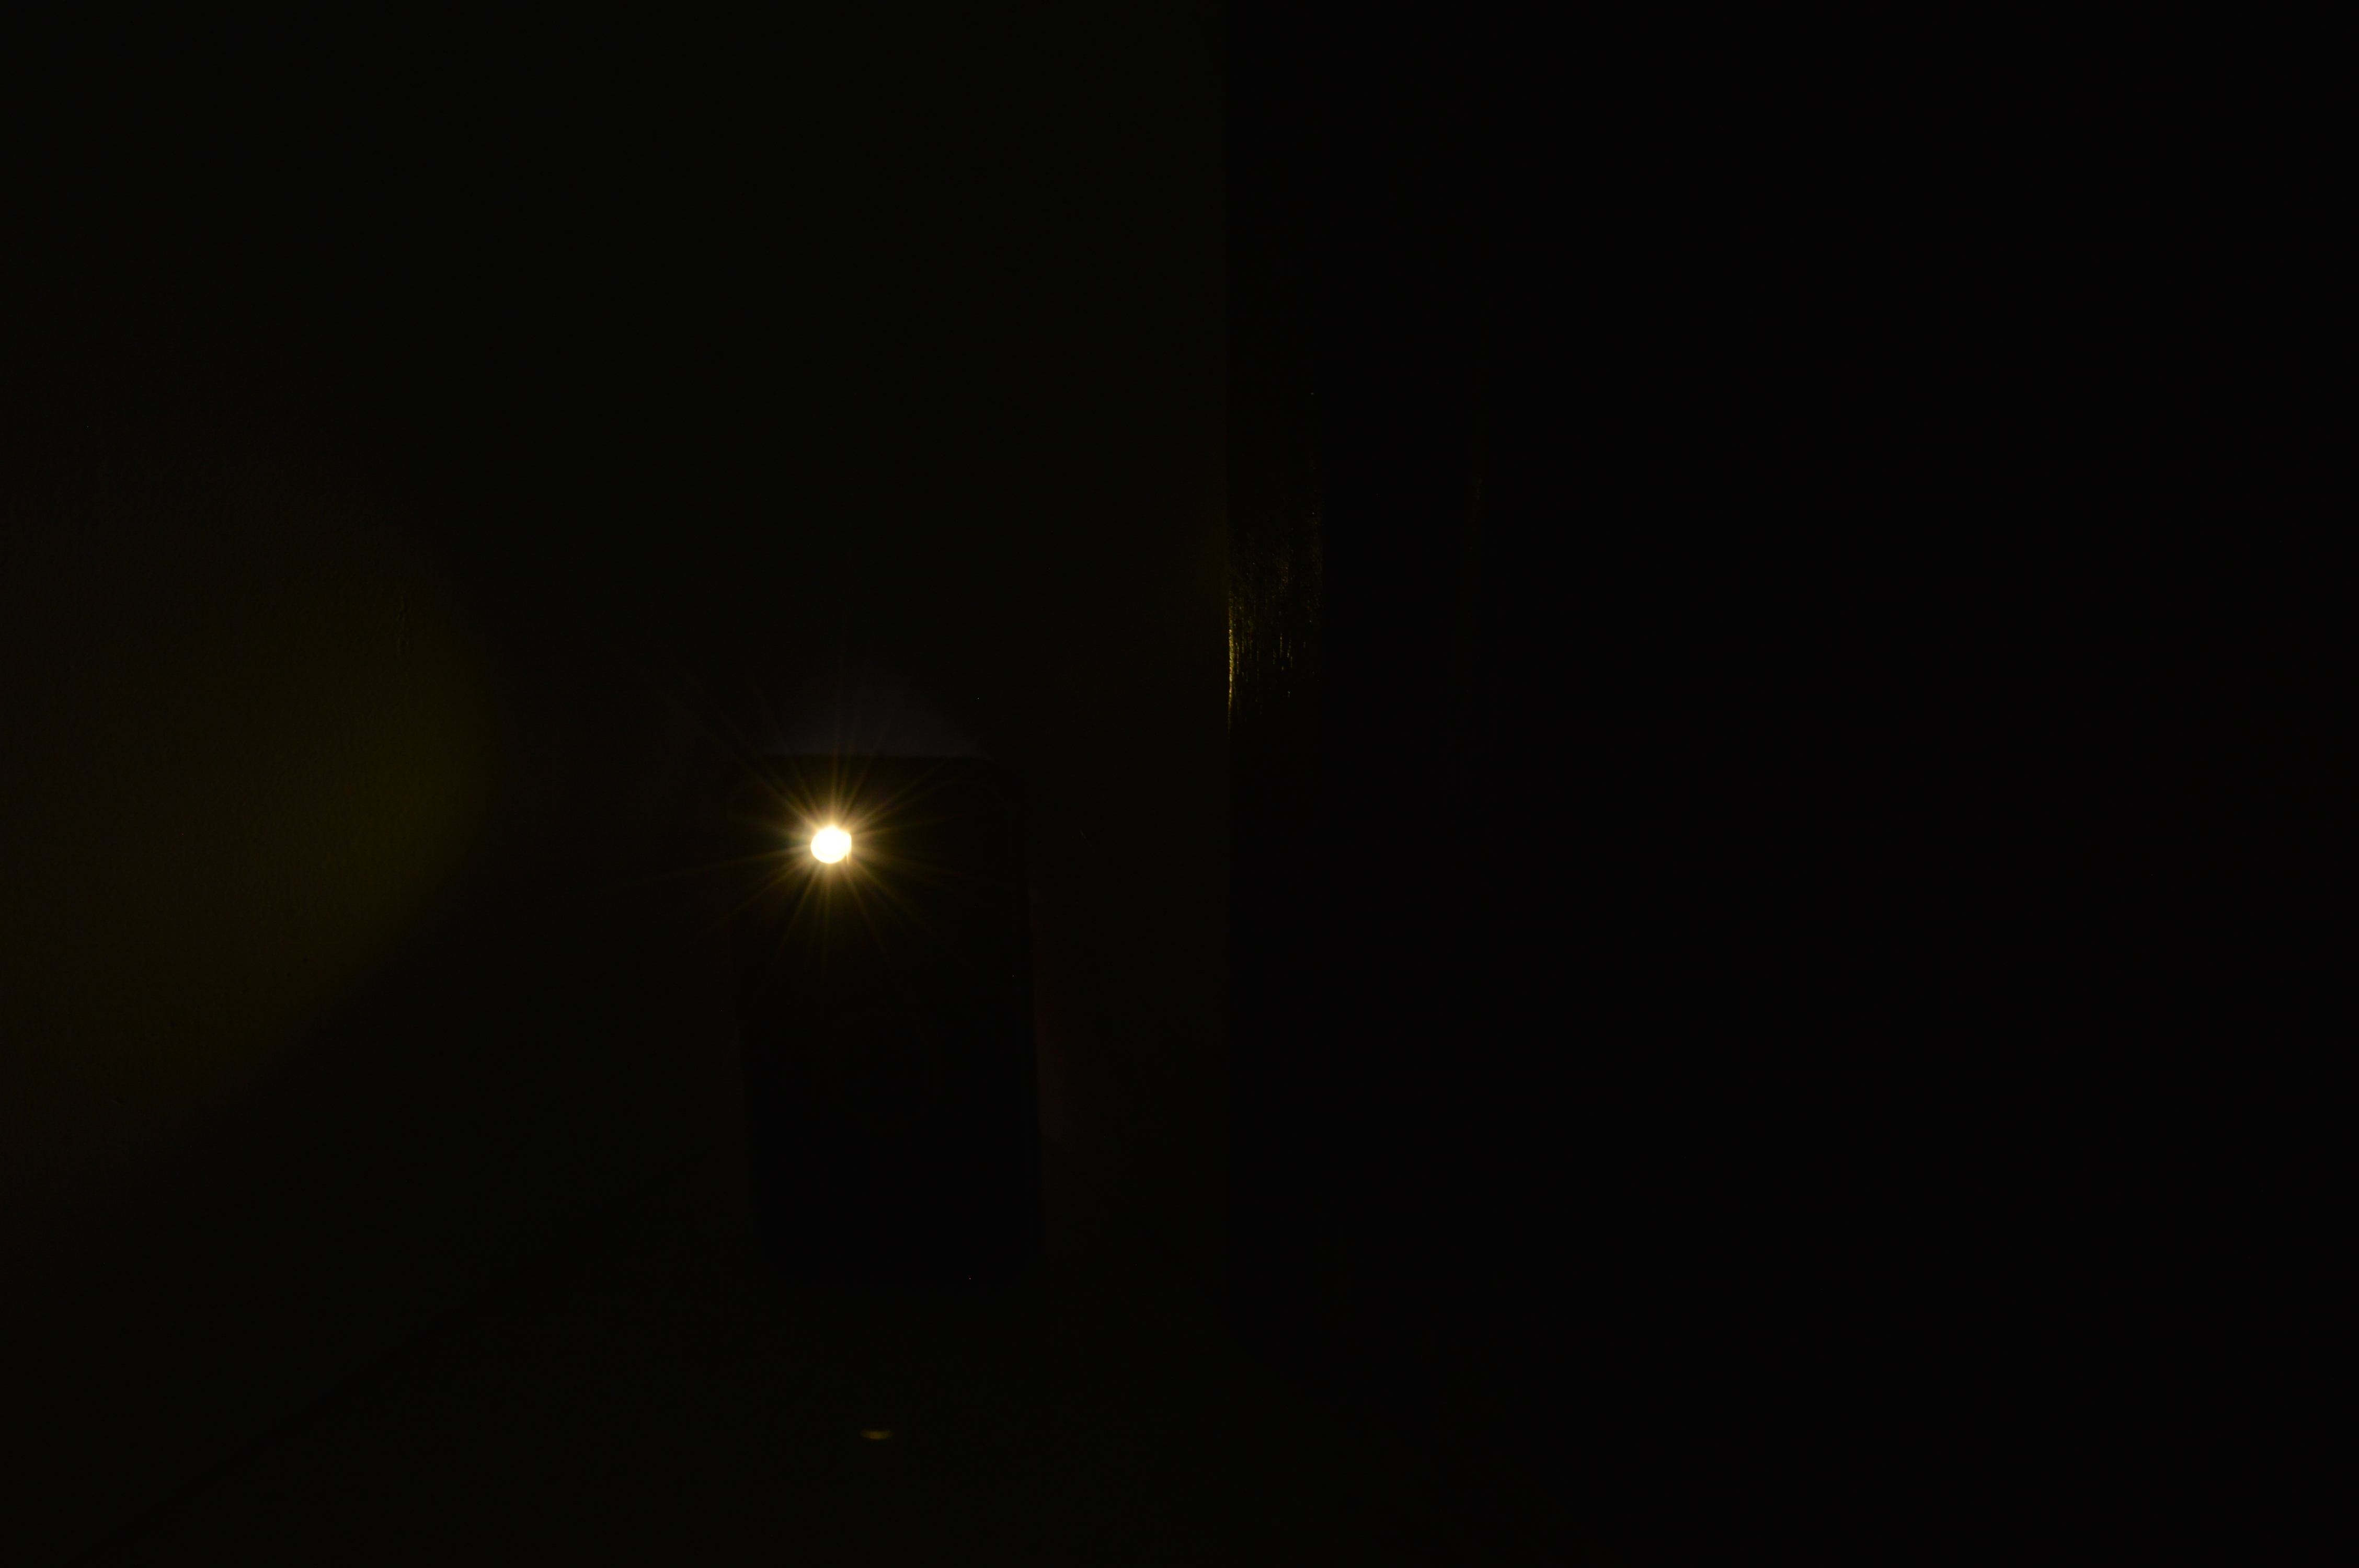Glare: (796, 803, 870, 875)
